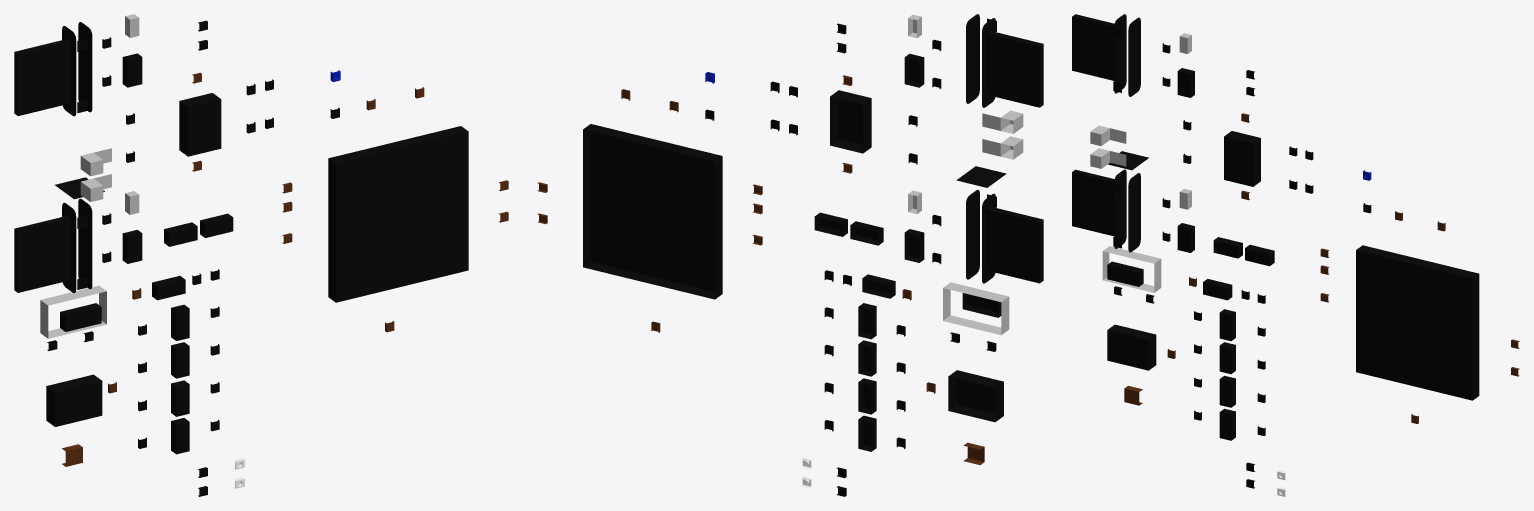
File: Devices.obj
The picture shows the model from 3 angles, left to right: view 1: azimuth 30°, elevation 25°; view 2: azimuth 150°, elevation 25°; view 3: azimuth 330°, elevation 25°; orthographic projection. The views are drawn at different scales.
Visible parts, largest first — view 1: devices_RA4M1; view 2: devices_RA4M1; view 3: devices_RA4M1.
Boxes of the visible parts, bbox=[...] form: devices_RA4M1: bbox=[14, 14, 508, 496]; devices_RA4M1: bbox=[537, 14, 1043, 496]; devices_RA4M1: bbox=[1072, 14, 1519, 496].
Bounding box in the file's own units: 0.0527 × 0.051 × 0.0066.
